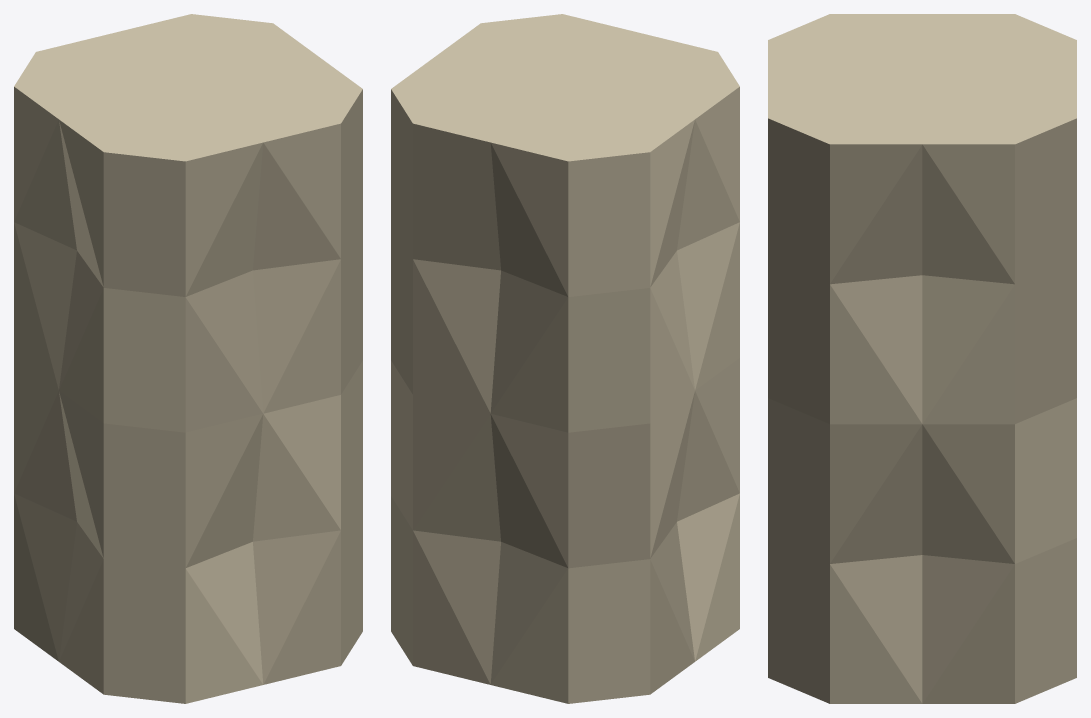
Rendered from Section_1.glb.
The picture shows the model from 3 angles, left to right: view 1: azimuth 30°, elevation 25°; view 2: azimuth 150°, elevation 25°; view 3: azimuth 270°, elevation 25°; orthographic projection. The views are drawn at different scales.
Parts seen in each view (by area): view 1: Section; view 2: Section; view 3: Section.
Boxes of the visible parts, bbox=[...] form: Section: bbox=[14, 14, 362, 703]; Section: bbox=[391, 14, 739, 703]; Section: bbox=[768, 14, 1076, 703].
Bounding box in the file's own units: 2.6 × 5.2 × 2.6.
